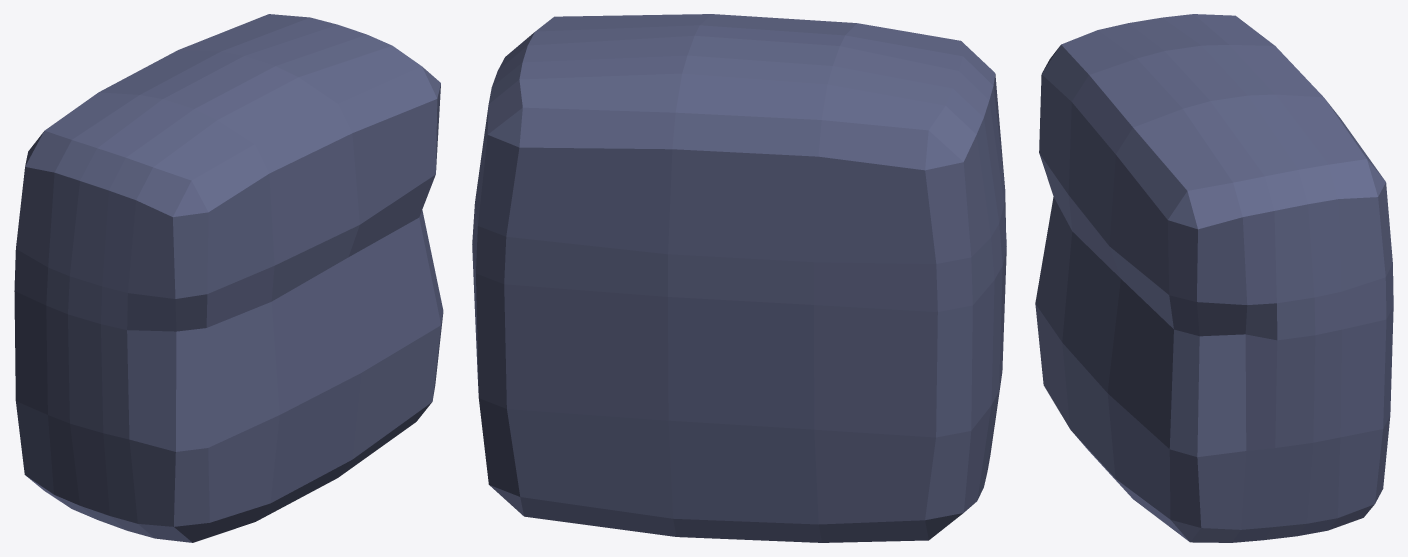
The model's file is SpaceBag.dae.
3 views of the same model, side by side, from view 1: azimuth 30°, elevation 25°; view 2: azimuth 150°, elevation 25°; view 3: azimuth 270°, elevation 25° (orthographic). The views are drawn at different scales.
Parts seen in each view (by area): view 1: pCube51; view 2: pCube51; view 3: pCube51.
Part boxes in pixels (x1,y1,x2,y2): pCube51: [14, 14, 443, 542]; pCube51: [472, 14, 1006, 542]; pCube51: [1035, 14, 1393, 542].
Bounding box in the file's own units: 1.31 × 1.21 × 0.9844.
